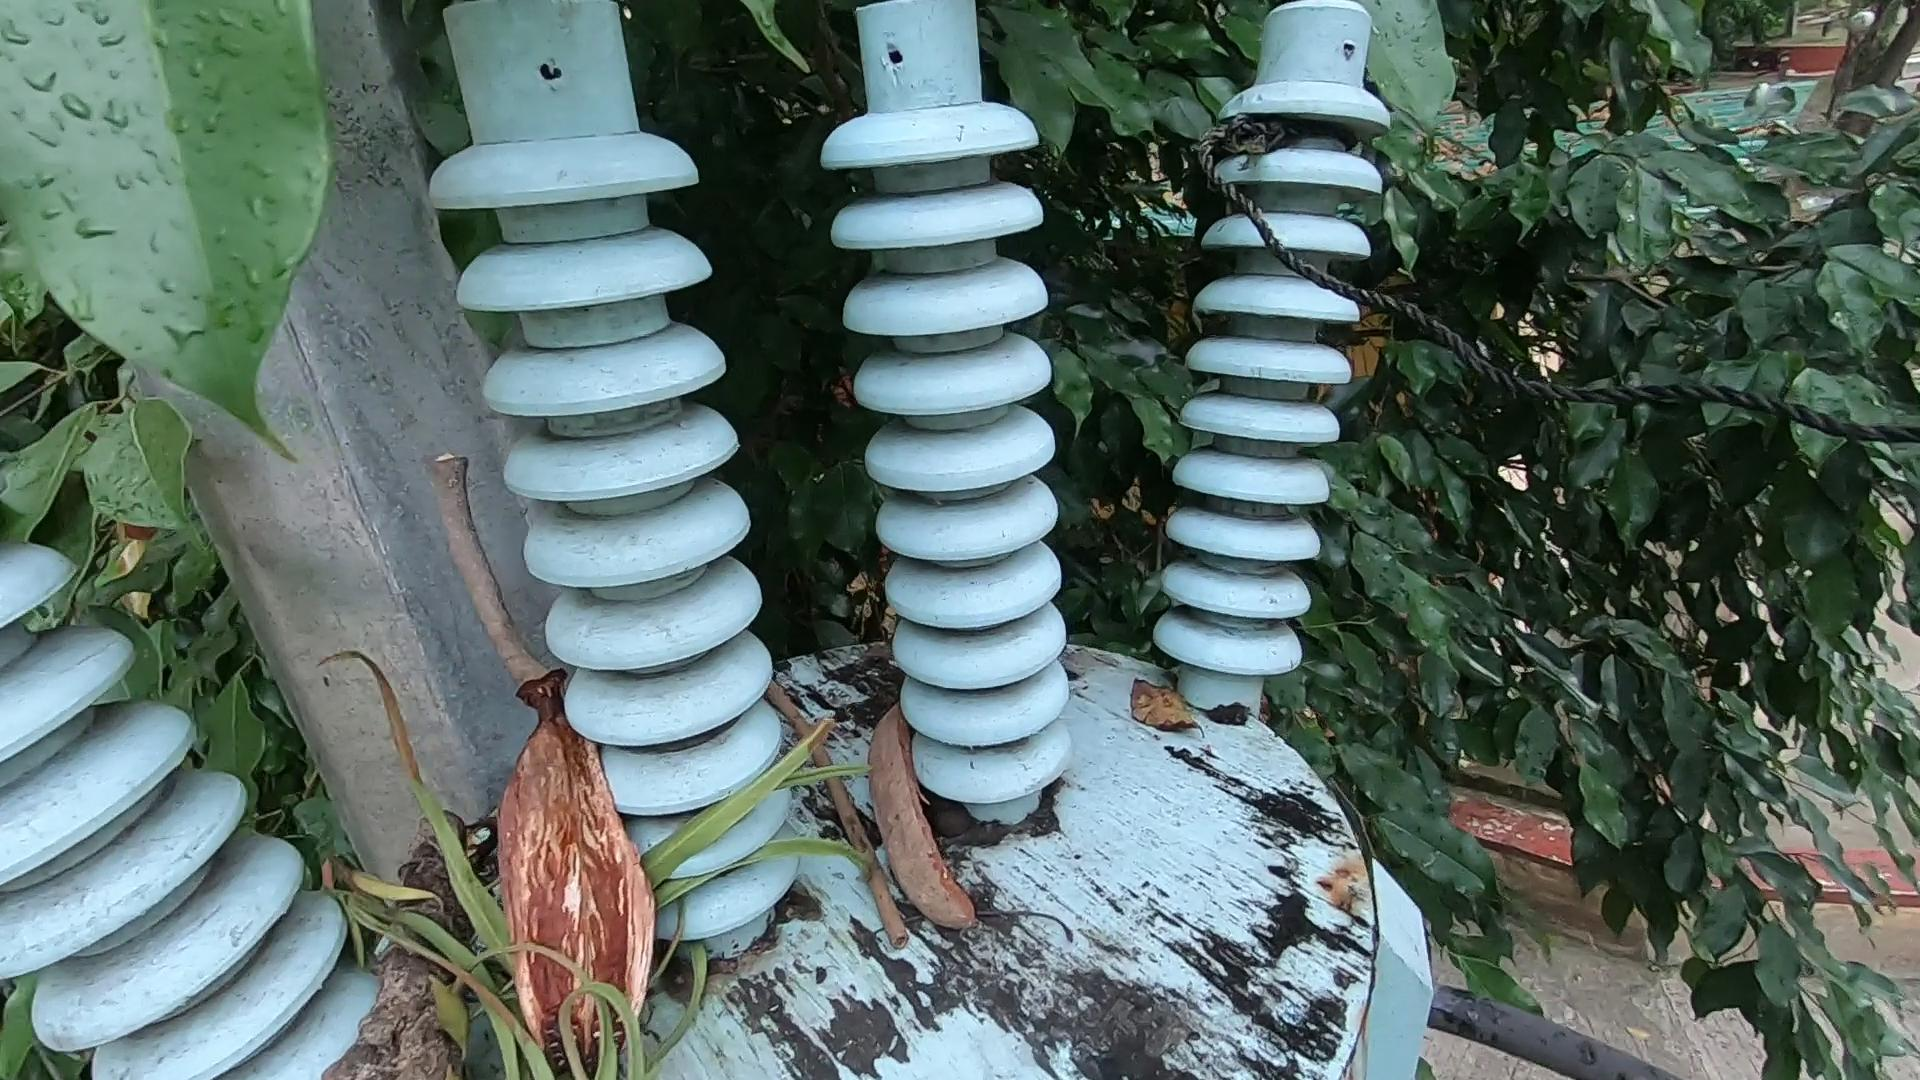branch with leaves: (345, 736, 618, 1080)
leaf: (1133, 653, 1211, 767)
mahogany fruit: (491, 696, 665, 1000), (843, 696, 996, 969)
tree branch: (410, 425, 566, 728), (766, 676, 910, 961)
